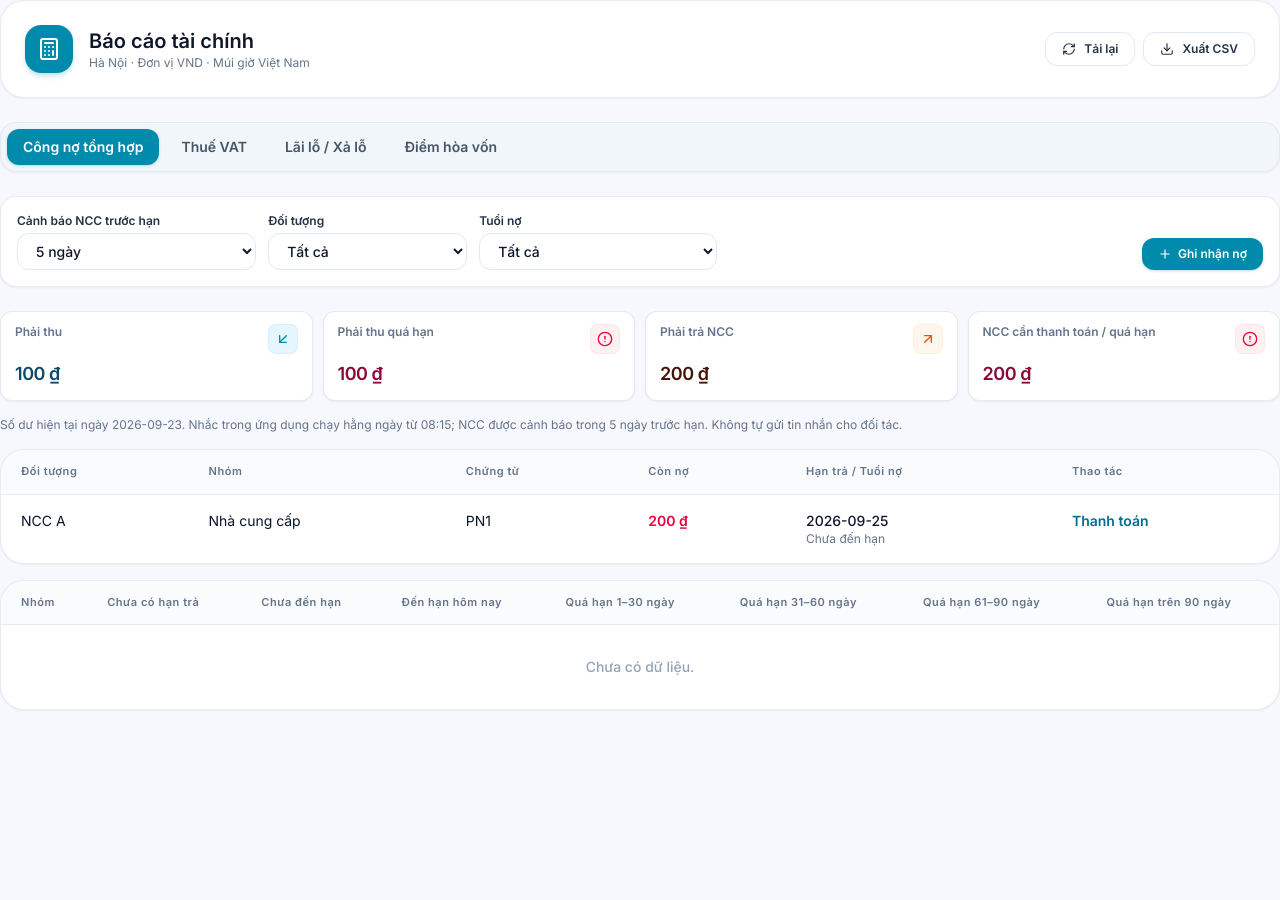
it: shows VAT credit confirmation and includes prior invoices in the adjustment picker
The image size is (1280, 900).
Step 1. Click the button "Thuế VAT" → (214, 147), box x1=165 y1=129 x2=263 y2=165
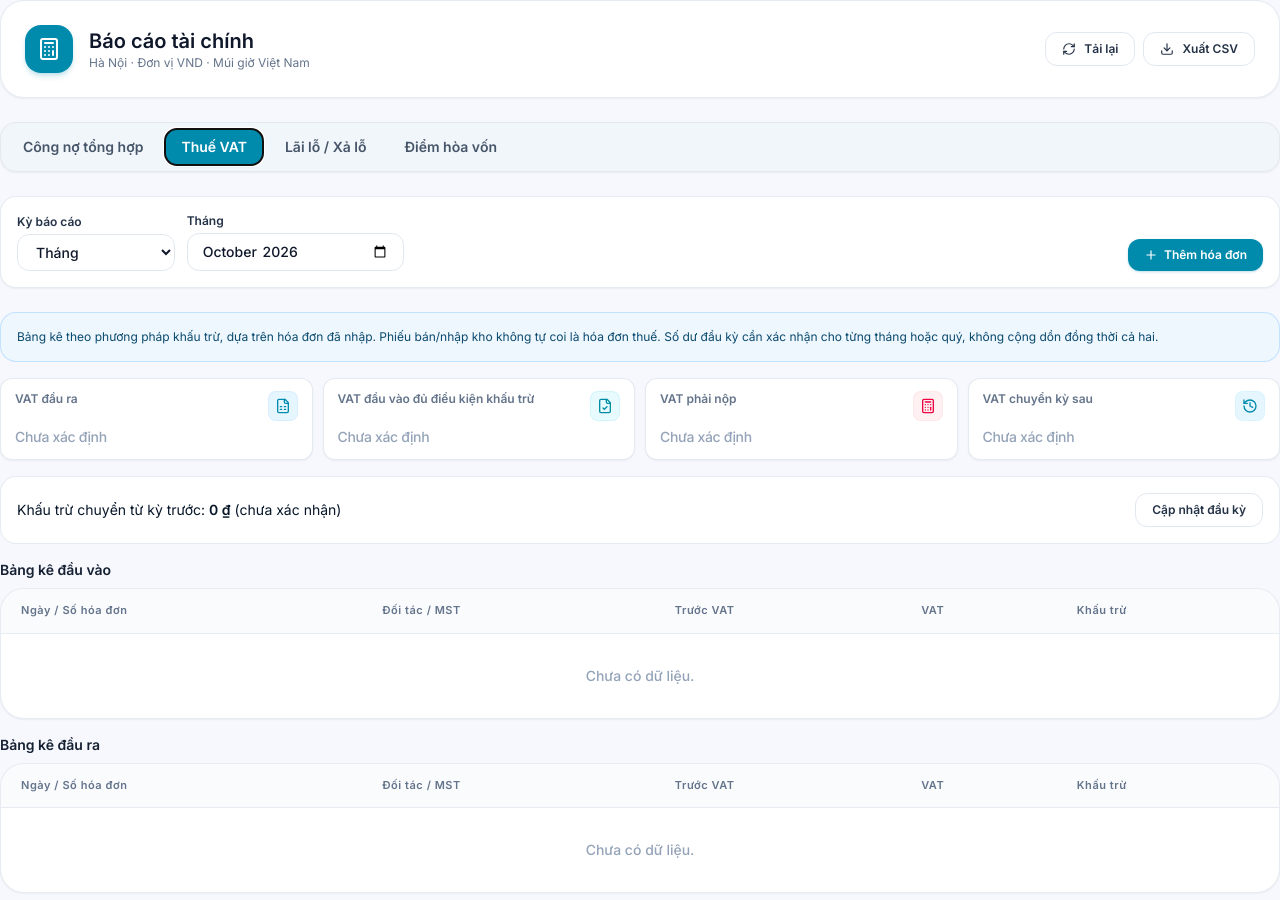
Result: the text "Khấu trừ chuyển từ kỳ trước: 0 ₫ (chưa xác nhận)" is shown at x1=17 y1=500 x2=342 y2=520
Step 2. Click the button "Thêm hóa đơn" → (1196, 255), box x1=1128 y1=239 x2=1263 y2=271
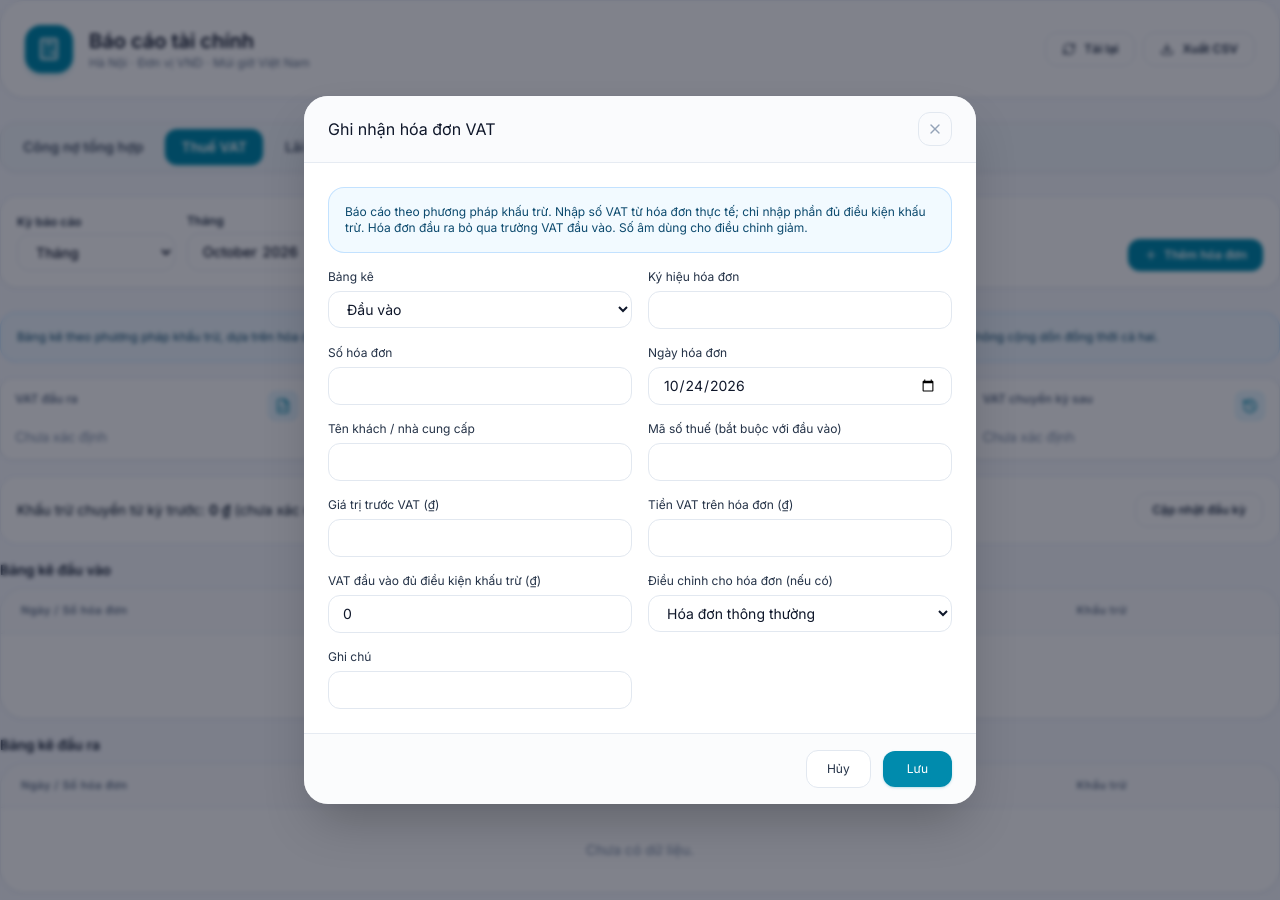
Step 3. Press Escape
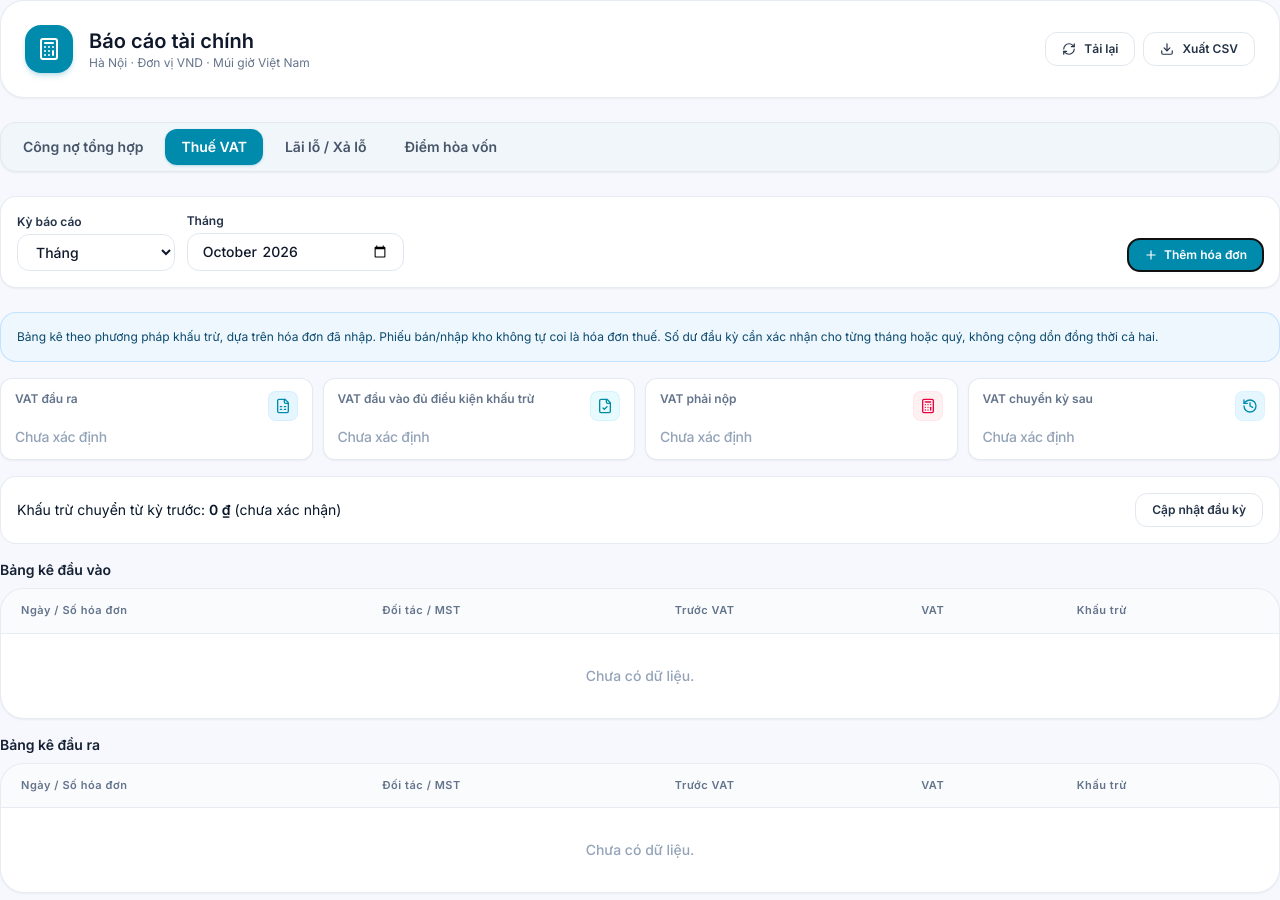
Result: the dialog is gone
